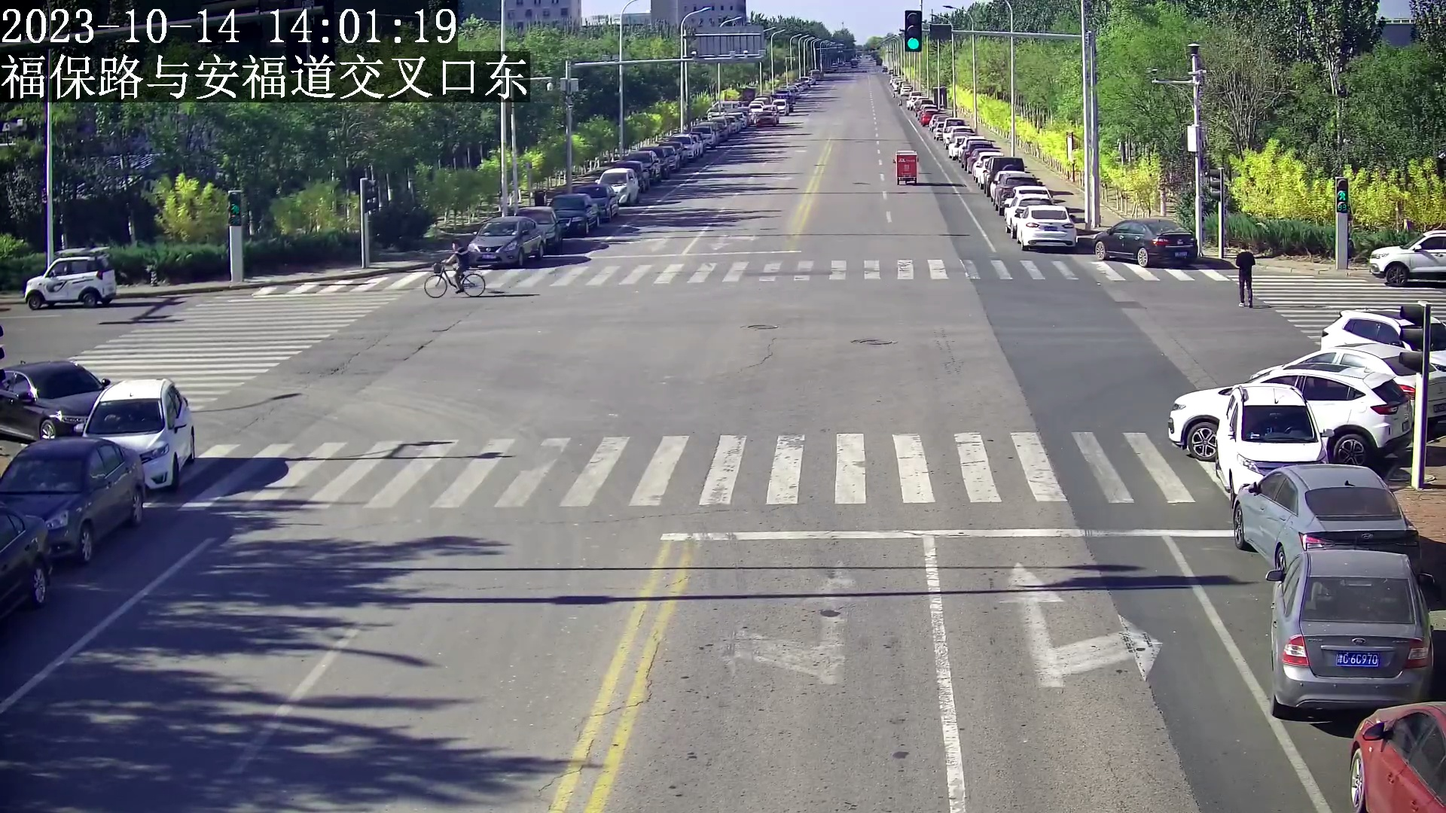person: (1234, 241, 1255, 309), (449, 239, 465, 294)
vehicle: (1269, 549, 1433, 714), (1161, 365, 1409, 464), (1231, 462, 1419, 571), (0, 434, 145, 565), (81, 377, 194, 486), (1217, 383, 1329, 492), (1344, 697, 1446, 813), (0, 358, 107, 438), (18, 247, 117, 306), (1094, 218, 1198, 271), (1366, 227, 1445, 283), (462, 215, 543, 264), (1014, 203, 1076, 249), (419, 262, 486, 297), (893, 149, 919, 186)
